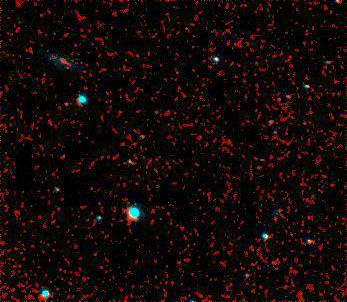star: (261, 200, 291, 230)
